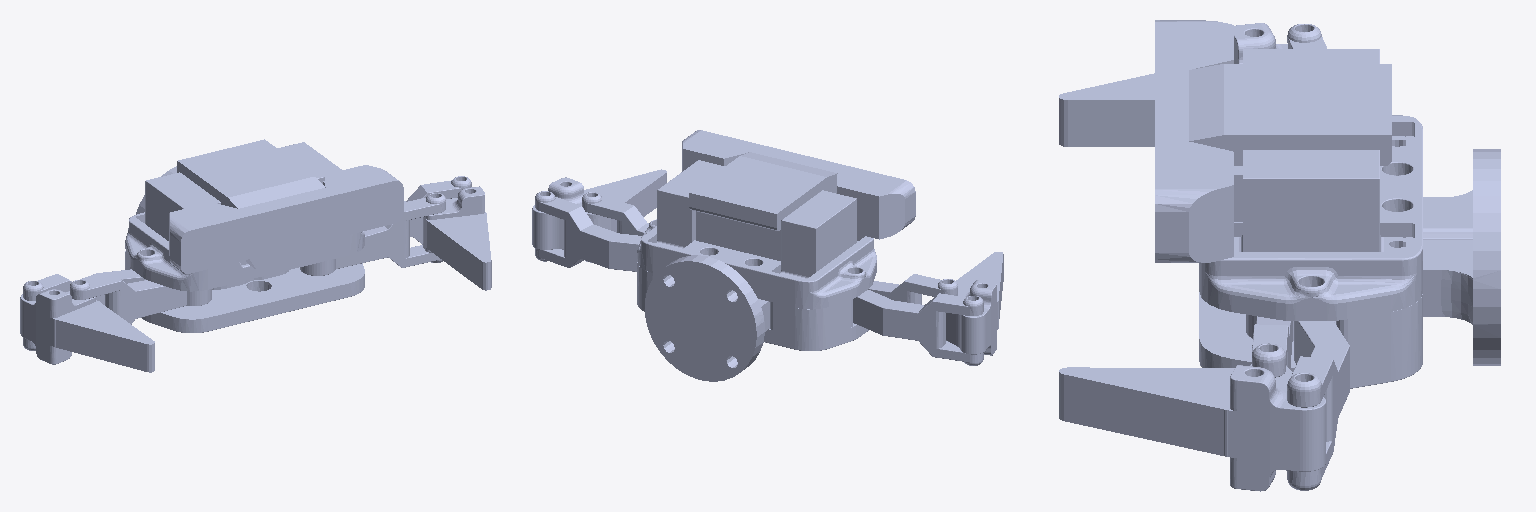
URDF robot description (gripper_ur):
<robot
  name="gripper_ur">
  <link
    name="base_link_gripper">
    <inertial>
      <origin
        xyz="8.2799E-10 0.032097 -0.017558"
        rpy="0 0 0" />
      <mass
        value="0.062951" />
      <inertia
        ixx="0"
        ixy="0"
        ixz="0"
        iyy="0"
        iyz="0"
        izz="0" />
    </inertial>
    <visual>
      <origin
        xyz="0 0 0"
        rpy="0 0 0" />
      <geometry>
        <mesh
          filename="package://gripper_ur/meshes/base_link.STL" />
      </geometry>
      <material
        name="">
        <color
          rgba="0.79216 0.81961 0.93333 1" />
      </material>
    </visual>
    <collision>
      <origin
        xyz="0 0 0"
        rpy="0 0 0" />
      <geometry>
        <mesh
          filename="package://gripper_ur/meshes/base_link.STL" />
      </geometry>
    </collision>
  </link>
  <link
    name="base_plate_link">
    <inertial>
      <origin
        xyz="-7.0378E-12 0.0041256 0.0062315"
        rpy="0 0 0" />
      <mass
        value="0.064589" />
      <inertia
        ixx="0"
        ixy="0"
        ixz="0"
        iyy="0"
        iyz="0"
        izz="0" />
    </inertial>
    <visual>
      <origin
        xyz="0 0 0"
        rpy="0 0 0" />
      <geometry>
        <mesh
          filename="package://gripper_ur/meshes/base_plate_link.STL" />
      </geometry>
      <material
        name="">
        <color
          rgba="0.79216 0.81961 0.93333 1" />
      </material>
    </visual>
    <collision>
      <origin
        xyz="0 0 0"
        rpy="0 0 0" />
      <geometry>
        <mesh
          filename="package://gripper_ur/meshes/base_plate_link.STL" />
      </geometry>
    </collision>
  </link>
  <joint
    name="base_plate"
    type="fixed">
    <origin
      xyz="0 0 -0.0325"
      rpy="0 0 0" />
    <parent
      link="base_link_gripper" />
    <child
      link="base_plate_link" />
    <axis
      xyz="0 0 0" />
  </joint>
  <link
    name="joint_left_link">
    <inertial>
      <origin
        xyz="-0.00096719 0.00018393 -0.029739"
        rpy="0 0 0" />
      <mass
        value="0.01181" />
      <inertia
        ixx="0"
        ixy="0"
        ixz="0"
        iyy="0"
        iyz="0"
        izz="0" />
    </inertial>
    <visual>
      <origin
        xyz="0 0 0"
        rpy="0 0 0" />
      <geometry>
        <mesh
          filename="package://gripper_ur/meshes/joint_left_link.STL" />
      </geometry>
      <material
        name="">
        <color
          rgba="0.79216 0.81961 0.93333 1" />
      </material>
    </visual>
    <collision>
      <origin
        xyz="0 0 0"
        rpy="0 0 0" />
      <geometry>
        <mesh
          filename="package://gripper_ur/meshes/joint_left_link.STL" />
      </geometry>
    </collision>
  </link>
  <joint
    name="joint_left"
    type="continuous">
    <origin
      xyz="0.03475 -0.01025 0.015"
      rpy="-1.5708 6.123E-17 1.5708" />
    <parent
      link="base_plate_link" />
    <child
      link="joint_left_link" />
    <axis
      xyz="0 -1 0" />
  </joint>
  <link
    name="finger_left_link">
    <inertial>
      <origin
        xyz="-0.0061859 -4.5161E-05 -0.01391"
        rpy="0 0 0" />
      <mass
        value="0.0081518" />
      <inertia
        ixx="0"
        ixy="0"
        ixz="0"
        iyy="0"
        iyz="0"
        izz="0" />
    </inertial>
    <visual>
      <origin
        xyz="0 0 0"
        rpy="0 0 0" />
      <geometry>
        <mesh
          filename="package://gripper_ur/meshes/finger_left_link.STL" />
      </geometry>
      <material
        name="">
        <color
          rgba="0.79216 0.81961 0.93333 1" />
      </material>
    </visual>
    <collision>
      <origin
        xyz="0 0 0"
        rpy="0 0 0" />
      <geometry>
        <mesh
          filename="package://gripper_ur/meshes/finger_left_link.STL" />
      </geometry>
    </collision>
  </link>
  <joint
    name="Joint_finger_left"
    type="continuous">
    <origin
      xyz="0 0 -0.065"
      rpy="9.3543E-15 -0.47313 -4.2625E-15" />
    <parent
      link="joint_left_link" />
    <child
      link="finger_left_link" />
    <axis
      xyz="0 -1 0" />
  </joint>
  <link
    name="festo_left_link">
    <inertial>
      <origin
        xyz="8.9608E-05 0.025359 -1.6653E-16"
        rpy="0 0 0" />
      <mass
        value="0.01909" />
      <inertia
        ixx="0"
        ixy="0"
        ixz="0"
        iyy="0"
        iyz="0"
        izz="0" />
    </inertial>
    <visual>
      <origin
        xyz="0 0 0"
        rpy="0 0 0" />
      <geometry>
        <mesh
          filename="package://gripper_ur/meshes/festo_left_link.STL" />
      </geometry>
      <material
        name="">
        <color
          rgba="0.79216 0.81961 0.93333 1" />
      </material>
    </visual>
    <collision>
      <origin
        xyz="0 0 0"
        rpy="0 0 0" />
      <geometry>
        <mesh
          filename="package://gripper_ur/meshes/festo_left_link.STL" />
      </geometry>
    </collision>
  </link>
  <joint
    name="joint_festo_left"
    type="fixed">
    <origin
      xyz="-0.0028917 0 -0.0097109"
      rpy="1.5708 0.85495 -3.1416" />
    <parent
      link="finger_left_link" />
    <child
      link="festo_left_link" />
    <axis
      xyz="0 0 0" />
  </joint>
  <link
    name="joint_right_link">
    <inertial>
      <origin
        xyz="0.00049585 0.00018393 -0.02975"
        rpy="0 0 0" />
      <mass
        value="0.01181" />
      <inertia
        ixx="0"
        ixy="0"
        ixz="0"
        iyy="0"
        iyz="0"
        izz="0" />
    </inertial>
    <visual>
      <origin
        xyz="0 0 0"
        rpy="0 0 0" />
      <geometry>
        <mesh
          filename="package://gripper_ur/meshes/joint_right_link.STL" />
      </geometry>
      <material
        name="">
        <color
          rgba="0.79216 0.81961 0.93333 1" />
      </material>
    </visual>
    <collision>
      <origin
        xyz="0 0 0"
        rpy="0 0 0" />
      <geometry>
        <mesh
          filename="package://gripper_ur/meshes/joint_right_link.STL" />
      </geometry>
    </collision>
  </link>
  <joint
    name="joint_right"
    type="continuous">
    <origin
      xyz="-0.03475 -0.01025 0.015"
      rpy="-1.5708 -1.2472E-16 -1.555" />
    <parent
      link="base_plate_link" />
    <child
      link="joint_right_link" />
    <axis
      xyz="0 -1 0" />
  </joint>
  <link
    name="finger_right_link">
    <inertial>
      <origin
        xyz="-0.0052726 4.5161E-05 -0.014386"
        rpy="0 0 0" />
      <mass
        value="0.0081518" />
      <inertia
        ixx="0"
        ixy="0"
        ixz="0"
        iyy="0"
        iyz="0"
        izz="0" />
    </inertial>
    <visual>
      <origin
        xyz="0 0 0"
        rpy="0 0 0" />
      <geometry>
        <mesh
          filename="package://gripper_ur/meshes/finger_right_link.STL" />
      </geometry>
      <material
        name="">
        <color
          rgba="0.79216 0.81961 0.93333 1" />
      </material>
    </visual>
    <collision>
      <origin
        xyz="0 0 0"
        rpy="0 0 0" />
      <geometry>
        <mesh
          filename="package://gripper_ur/meshes/finger_right_link.STL" />
      </geometry>
    </collision>
  </link>
  <joint
    name="joint_finger_right"
    type="continuous">
    <origin
      xyz="0 0 -0.065"
      rpy="-7.8621E-15 -0.48898 -3.1416" />
    <parent
      link="joint_right_link" />
    <child
      link="finger_right_link" />
    <axis
      xyz="0 1 0" />
  </joint>
  <link
    name="festo_right_link">
    <inertial>
      <origin
        xyz="8.9608E-05 0.025359 -3.5388E-16"
        rpy="0 0 0" />
      <mass
        value="0.01909" />
      <inertia
        ixx="0"
        ixy="0"
        ixz="0"
        iyy="0"
        iyz="0"
        izz="0" />
    </inertial>
    <visual>
      <origin
        xyz="0 0 0"
        rpy="0 0 0" />
      <geometry>
        <mesh
          filename="package://gripper_ur/meshes/festo_right_link.STL" />
      </geometry>
      <material
        name="">
        <color
          rgba="0.79216 0.81961 0.93333 1" />
      </material>
    </visual>
    <collision>
      <origin
        xyz="0 0 0"
        rpy="0 0 0" />
      <geometry>
        <mesh
          filename="package://gripper_ur/meshes/festo_right_link.STL" />
      </geometry>
    </collision>
  </link>
  <joint
    name="joint_festo_right"
    type="fixed">
    <origin
      xyz="-0.0019784 0 -0.010187"
      rpy="1.5708 0.85495 -3.1416" />
    <parent
      link="finger_right_link" />
    <child
      link="festo_right_link" />
    <axis
      xyz="0 0 0" />
  </joint>
  <link
    name="base_plate_two_link">
    <inertial>
      <origin
        xyz="1.1632E-07 0.0022711 -0.0027948"
        rpy="0 0 0" />
      <mass
        value="0.10598" />
      <inertia
        ixx="0"
        ixy="0"
        ixz="0"
        iyy="0"
        iyz="0"
        izz="0" />
    </inertial>
    <visual>
      <origin
        xyz="0 0 0"
        rpy="0 0 0" />
      <geometry>
        <mesh
          filename="package://gripper_ur/meshes/base_plate_two_link.STL" />
      </geometry>
      <material
        name="">
        <color
          rgba="0.79216 0.81961 0.93333 1" />
      </material>
    </visual>
    <collision>
      <origin
        xyz="0 0 0"
        rpy="0 0 0" />
      <geometry>
        <mesh
          filename="package://gripper_ur/meshes/base_plate_two_link.STL" />
      </geometry>
    </collision>
  </link>
  <joint
    name="joint_base_plate_two"
    type="fixed">
    <origin
      xyz="0 0 0.0325"
      rpy="3.1416 0 0" />
    <parent
      link="base_plate_link" />
    <child
      link="base_plate_two_link" />
    <axis
      xyz="0 0 0" />
  </joint>
  <link
    name="camera_link">
    <inertial>
      <origin
        xyz="0.00010101 0.0086143 -0.013617"
        rpy="0 0 0" />
      <mass
        value="0.083429" />
      <inertia
        ixx="9.7093E-07"
        ixy="2.7743E-09"
        ixz="1.0334E-11"
        iyy="6.1263E-08"
        iyz="-3.2036E-09"
        izz="1.0322E-06" />
    </inertial>
    <visual>
      <origin
        xyz="0 0 0"
        rpy="0 0 0" />
      <geometry>
        <mesh
          filename="package://gripper_ur/meshes/camera_link.STL" />
      </geometry>
      <material
        name="">
        <color
          rgba="0.79216 0.81961 0.93333 1" />
      </material>
    </visual>
    <collision>
      <origin
        xyz="0 0 0"
        rpy="0 0 0" />
      <geometry>
        <mesh
          filename="package://gripper_ur/meshes/camera_link.STL" />
      </geometry>
    </collision>
  </link>
  <joint
    name="joint_camera"
    type="fixed">
    <origin
      xyz="0 0.034 -0.008"
      rpy="6.123E-17 6.123E-17 -3.1416" />
    <parent
      link="base_plate_two_link" />
    <child
      link="camera_link" />
    <axis
      xyz="0 0 0" />
  </joint>
  <link
    name="servo_right_link">
    <inertial>
      <origin
        xyz="1.9207E-08 0.00028935 -0.019039"
        rpy="0 0 0" />
      <mass
        value="0.029949" />
      <inertia
        ixx="0"
        ixy="0"
        ixz="0"
        iyy="0"
        iyz="0"
        izz="0" />
    </inertial>
    <visual>
      <origin
        xyz="0 0 0"
        rpy="0 0 0" />
      <geometry>
        <mesh
          filename="package://gripper_ur/meshes/servo_right_link.STL" />
      </geometry>
      <material
        name="">
        <color
          rgba="0.79216 0.81961 0.93333 1" />
      </material>
    </visual>
    <collision>
      <origin
        xyz="0 0 0"
        rpy="0 0 0" />
      <geometry>
        <mesh
          filename="package://gripper_ur/meshes/servo_right_link.STL" />
      </geometry>
    </collision>
  </link>
  <joint
    name="joint_servo_right"
    type="fixed">
    <origin
      xyz="-0.03475 0 0.061"
      rpy="1.7384E-16 3.0322E-16 3.1416" />
    <parent
      link="base_plate_link" />
    <child
      link="servo_right_link" />
    <axis
      xyz="0 0 0" />
  </joint>
  <link
    name="servo_left_link">
    <inertial>
      <origin
        xyz="1.9207E-08 0.00028935 -0.019039"
        rpy="0 0 0" />
      <mass
        value="0.029949" />
      <inertia
        ixx="0"
        ixy="0"
        ixz="0"
        iyy="0"
        iyz="0"
        izz="0" />
    </inertial>
    <visual>
      <origin
        xyz="0 0 0"
        rpy="0 0 0" />
      <geometry>
        <mesh
          filename="package://gripper_ur/meshes/servo_left_link.STL" />
      </geometry>
      <material
        name="">
        <color
          rgba="0.79216 0.81961 0.93333 1" />
      </material>
    </visual>
    <collision>
      <origin
        xyz="0 0 0"
        rpy="0 0 0" />
      <geometry>
        <mesh
          filename="package://gripper_ur/meshes/servo_left_link.STL" />
      </geometry>
    </collision>
  </link>
  <joint
    name="joint_servo_lleft"
    type="fixed">
    <origin
      xyz="0.03475 0 0.061"
      rpy="1.7348E-16 6.123E-17 3.1416" />
    <parent
      link="base_plate_link" />
    <child
      link="servo_left_link" />
    <axis
      xyz="0 0 0" />
  </joint>
  <link
    name="finger_two_right_link">
    <inertial>
      <origin
        xyz="-0.0313 0.0081481 3.3286E-05"
        rpy="0 0 0" />
      <mass
        value="0.011213" />
      <inertia
        ixx="0"
        ixy="0"
        ixz="0"
        iyy="0"
        iyz="0"
        izz="0" />
    </inertial>
    <visual>
      <origin
        xyz="0 0 0"
        rpy="0 0 0" />
      <geometry>
        <mesh
          filename="package://gripper_ur/meshes/finger_two_right_link.STL" />
      </geometry>
      <material
        name="">
        <color
          rgba="0.79216 0.81961 0.93333 1" />
      </material>
    </visual>
    <collision>
      <origin
        xyz="0 0 0"
        rpy="0 0 0" />
      <geometry>
        <mesh
          filename="package://gripper_ur/meshes/finger_two_right_link.STL" />
      </geometry>
    </collision>
  </link>
  <joint
    name="joint_finger_two_right"
    type="fixed">
    <origin
      xyz="-0.055 0 0.015"
      rpy="4.5212E-16 3.3777E-16 0.18526" />
    <parent
      link="base_plate_link" />
    <child
      link="finger_two_right_link" />
    <axis
      xyz="0 0 0" />
  </joint>
  <link
    name="finger_two_left_link">
    <inertial>
      <origin
        xyz="0.0081481 -0.031299 3.281E-05"
        rpy="0 0 0" />
      <mass
        value="0.011213" />
      <inertia
        ixx="0"
        ixy="0"
        ixz="0"
        iyy="0"
        iyz="0"
        izz="0" />
    </inertial>
    <visual>
      <origin
        xyz="0 0 0"
        rpy="0 0 0" />
      <geometry>
        <mesh
          filename="package://gripper_ur/meshes/finger_two_left_link.STL" />
      </geometry>
      <material
        name="">
        <color
          rgba="0.79216 0.81961 0.93333 1" />
      </material>
    </visual>
    <collision>
      <origin
        xyz="0 0 0"
        rpy="0 0 0" />
      <geometry>
        <mesh
          filename="package://gripper_ur/meshes/finger_two_left_link.STL" />
      </geometry>
    </collision>
  </link>
  <joint
    name="joint_finger_two_left"
    type="fixed">
    <origin
      xyz="0.055 0 0.015"
      rpy="-9.6748E-17 1.0664E-16 1.3855" />
    <parent
      link="base_plate_link" />
    <child
      link="finger_two_left_link" />
    <axis
      xyz="0 0 0" />
  </joint>
</robot>

--- Facts derived from the render (not from the file) ---
The picture shows the robot from 3 angles, left to right: view 1: azimuth 30°, elevation 25°; view 2: azimuth 150°, elevation 25°; view 3: azimuth 270°, elevation 25°; orthographic projection.
Robot: gripper_ur — 14 links, 13 joints (4 continuous, 9 fixed); root link base_link_gripper; default pose: all joints at 0.
Links seen in each view (by area): view 1: camera_link, base_plate_link, base_plate_two_link, festo_right_link, joint_left_link, festo_left_link, joint_right_link, servo_right_link, finger_right_link, finger_two_right_link, finger_left_link, finger_two_left_link (+1 smaller); view 2: camera_link, base_link_gripper, base_plate_two_link, finger_two_right_link, servo_right_link, finger_two_left_link, base_plate_link, servo_left_link, finger_right_link, festo_left_link, finger_left_link, joint_right_link (+2 smaller); view 3: camera_link, base_plate_two_link, servo_left_link, festo_left_link, base_link_gripper, base_plate_link, finger_left_link, festo_right_link, finger_two_left_link, servo_right_link, joint_left_link, finger_right_link (+1 smaller).
Boxes of the visible links, x1=… form: camera_link: x1=169, y1=139, x2=403, y2=273; base_plate_link: x1=125, y1=251, x2=364, y2=332; base_plate_two_link: x1=125, y1=212, x2=364, y2=291; festo_right_link: x1=36, y1=300, x2=154, y2=372; joint_left_link: x1=300, y1=193, x2=445, y2=275; festo_left_link: x1=423, y1=212, x2=491, y2=290; joint_right_link: x1=70, y1=274, x2=211, y2=324; servo_right_link: x1=145, y1=172, x2=220, y2=240; finger_right_link: x1=20, y1=289, x2=95, y2=364; finger_two_right_link: x1=23, y1=269, x2=145, y2=350; finger_left_link: x1=423, y1=186, x2=484, y2=252; finger_two_left_link: x1=404, y1=176, x2=471, y2=244; camera_link: x1=682, y1=130, x2=915, y2=239; base_link_gripper: x1=645, y1=255, x2=769, y2=381; base_plate_two_link: x1=637, y1=211, x2=876, y2=309; finger_two_right_link: x1=853, y1=290, x2=983, y2=365; servo_right_link: x1=780, y1=190, x2=856, y2=279; finger_two_left_link: x1=535, y1=191, x2=641, y2=271; base_plate_link: x1=637, y1=262, x2=868, y2=350; servo_left_link: x1=656, y1=160, x2=724, y2=248; finger_right_link: x1=946, y1=280, x2=996, y2=355; festo_left_link: x1=584, y1=169, x2=666, y2=232; finger_left_link: x1=532, y1=177, x2=602, y2=249; joint_right_link: x1=868, y1=274, x2=957, y2=304; camera_link: x1=1155, y1=20, x2=1391, y2=262; base_plate_two_link: x1=1199, y1=115, x2=1422, y2=320; servo_left_link: x1=1234, y1=150, x2=1405, y2=251; festo_left_link: x1=1059, y1=367, x2=1269, y2=461; base_link_gripper: x1=1423, y1=149, x2=1500, y2=365; base_plate_link: x1=1199, y1=292, x2=1422, y2=388; finger_left_link: x1=1230, y1=364, x2=1325, y2=491; festo_right_link: x1=1059, y1=73, x2=1154, y2=146; finger_two_left_link: x1=1287, y1=321, x2=1349, y2=490; servo_right_link: x1=1243, y1=49, x2=1405, y2=150; joint_left_link: x1=1246, y1=315, x2=1293, y2=377; finger_right_link: x1=1234, y1=23, x2=1287, y2=63.
Size in the robot's own frame: 0.2524 by 0.1283 by 0.082 metres.
14 mesh visuals loaded from 14 distinct referenced files (14 binary STL).